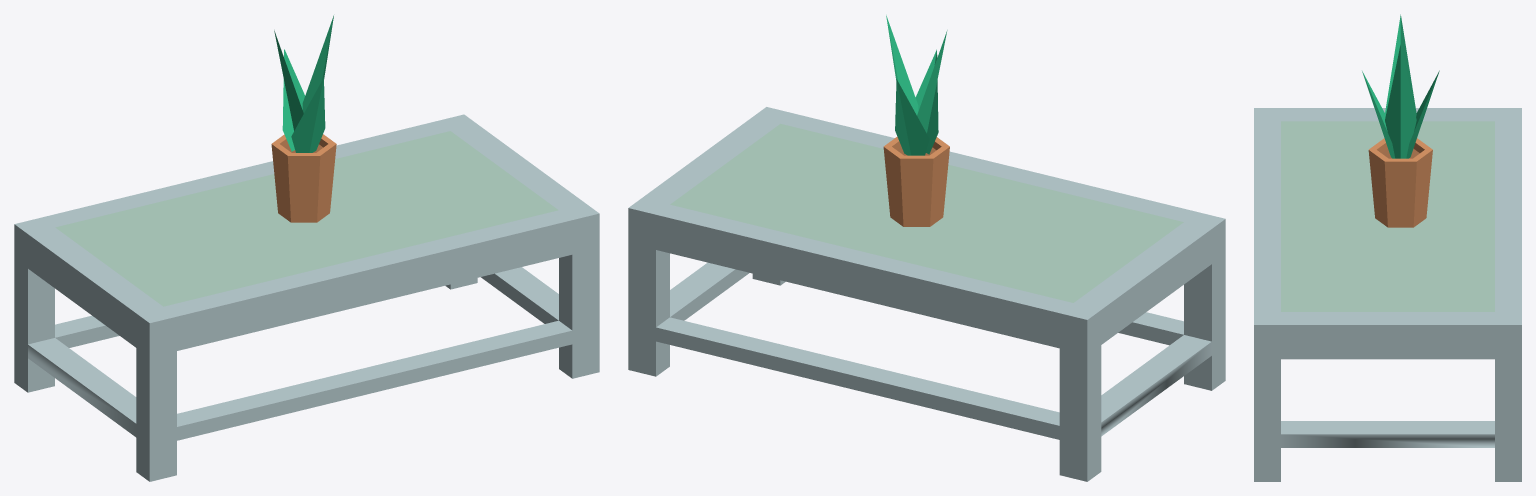
File: tableDesign.obj
3 renders of one model, left to right at view 1: azimuth 30°, elevation 25°; view 2: azimuth 150°, elevation 25°; view 3: azimuth 270°, elevation 25°, orthographic. The views are drawn at different scales.
Visible parts, largest first — view 1: pottedPlant; view 2: pottedPlant; view 3: pottedPlant.
Part boxes in pixels (bbox=[...]): pottedPlant: bbox=[14, 15, 599, 481]; pottedPlant: bbox=[628, 15, 1225, 481]; pottedPlant: bbox=[1254, 14, 1521, 481].
Bounding box in the file's own units: 1.58 × 1.18 × 0.8234.
